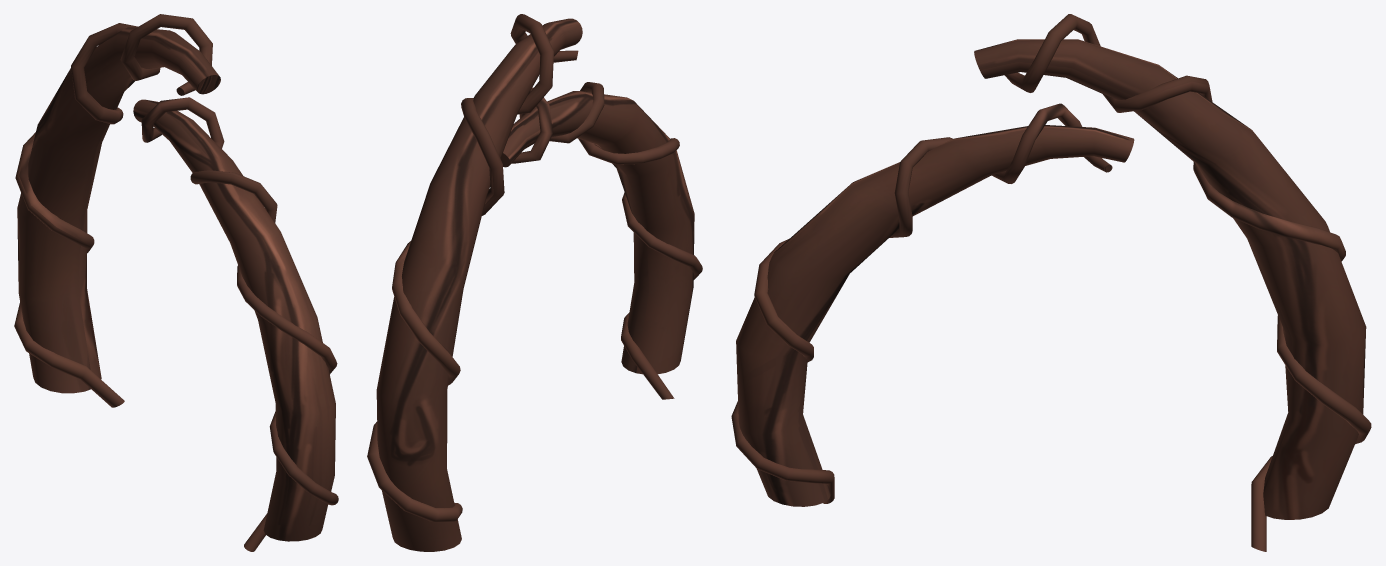
Rendered from portal.FBX.
The picture shows the model from 3 angles, left to right: view 1: azimuth 30°, elevation 25°; view 2: azimuth 150°, elevation 25°; view 3: azimuth 270°, elevation 25°; orthographic projection. The views are drawn at different scales.
Visible parts, largest first — view 1: Cylinder001; view 2: Cylinder001; view 3: Cylinder001.
Part boxes in pixels (bbox=[...]): Cylinder001: bbox=[14, 14, 338, 551]; Cylinder001: bbox=[367, 14, 702, 551]; Cylinder001: bbox=[731, 14, 1371, 551].
Size of the model in its own units: 5.62 by 36.19 by 32.12.
